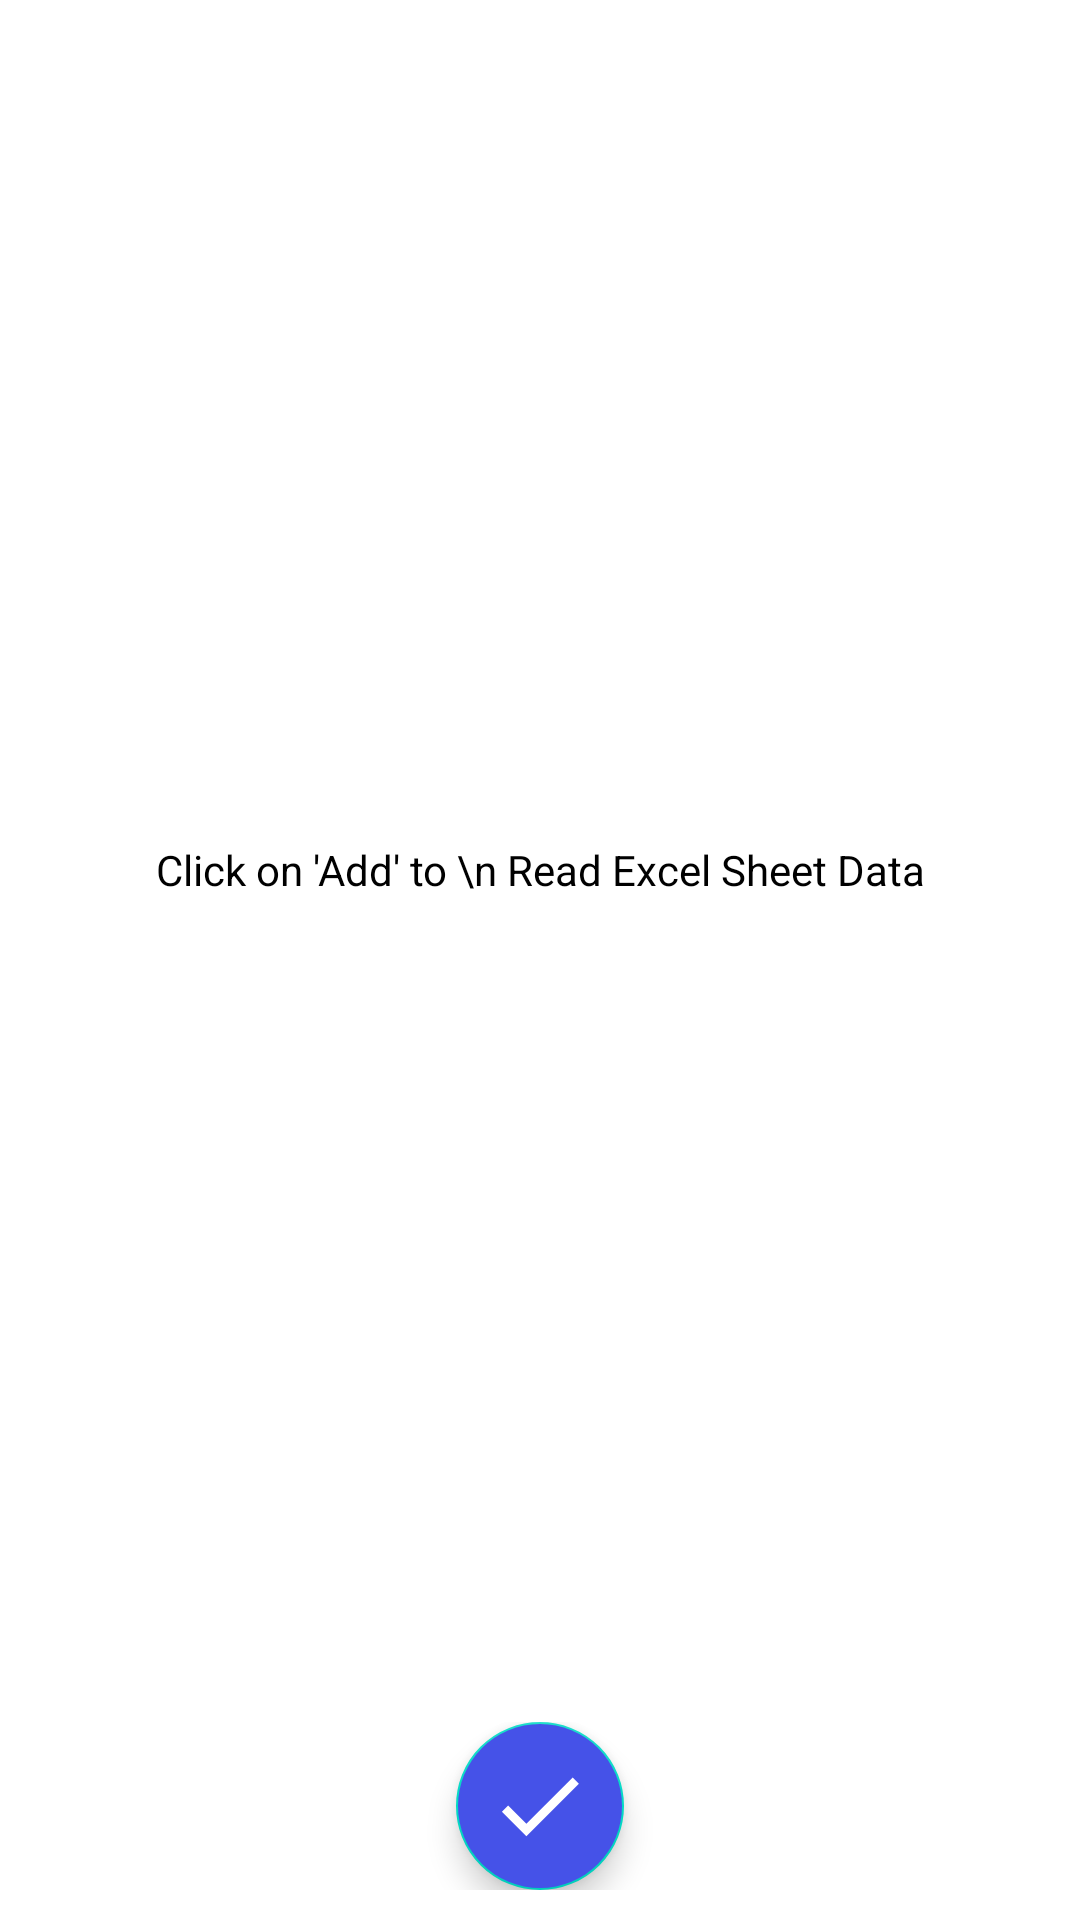

Icons on this 1080px×1920px Android screen, each with its box as [left=x1, top=y1, right=x2, bottom=y2]:
check: [left=456, top=1722, right=624, bottom=1890]
